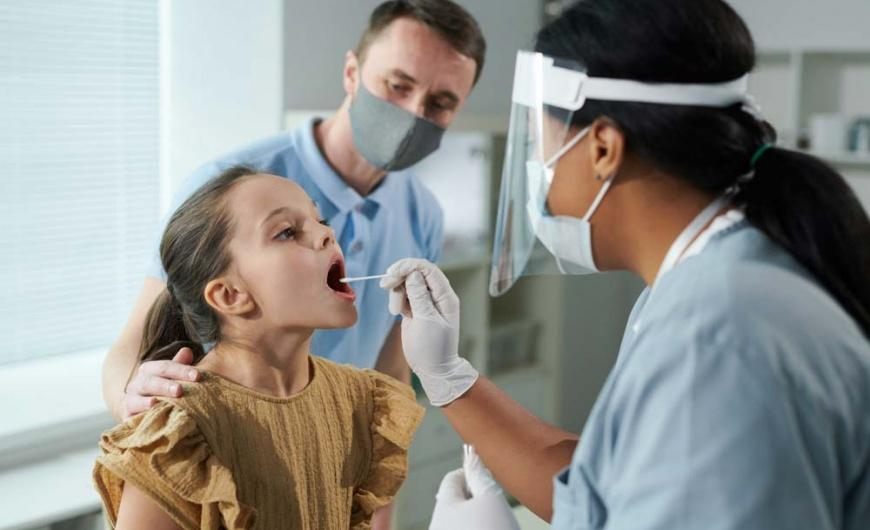with_mask: (519, 123, 617, 275), (355, 47, 462, 173)
without_mask: (239, 195, 362, 336)
